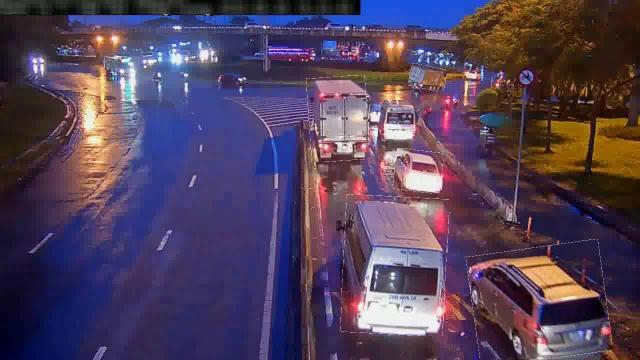Bus: (342, 195, 448, 335)
Car: (470, 243, 610, 359), (393, 150, 442, 192)
Truck: (307, 76, 368, 162), (409, 66, 447, 90)
